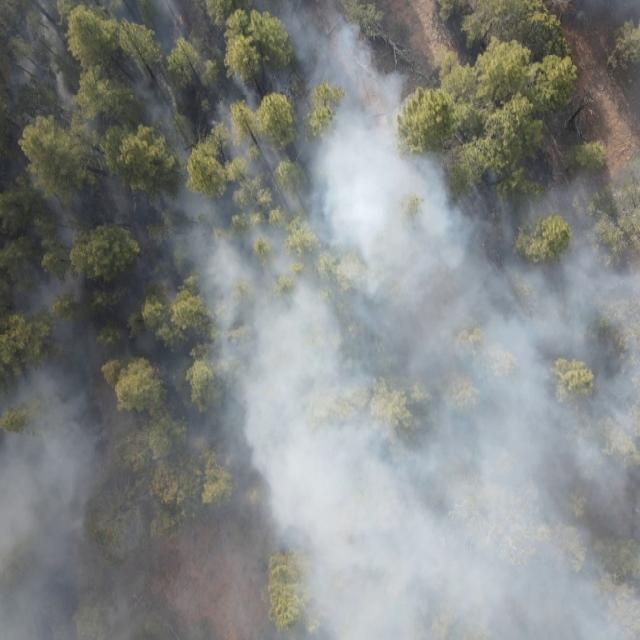fire: (172, 14, 187, 36)
smoke: (0, 0, 404, 640), (404, 149, 640, 640), (581, 0, 640, 44)
